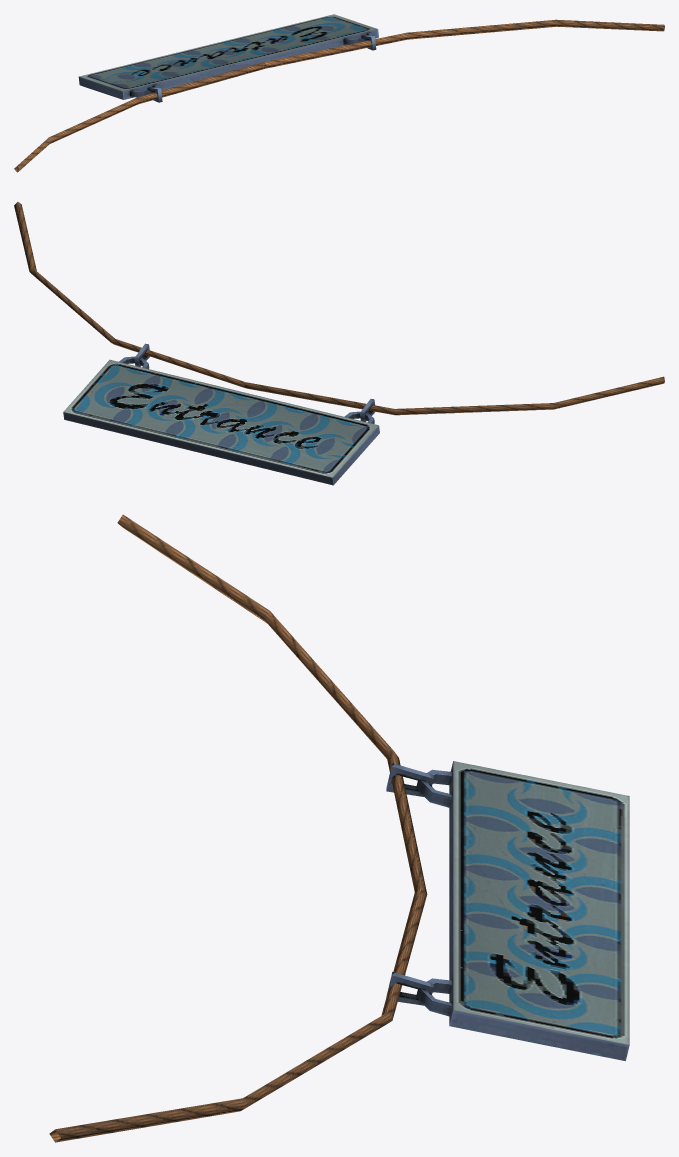
File: fxanim_mp_nuked2025_gate_sign03_mod_LOD1.obj
The picture shows the model from 3 angles, top to bottom: view 1: azimuth 30°, elevation 25°; view 2: azimuth 150°, elevation 25°; view 3: azimuth 270°, elevation 25°; orthographic projection. The views are drawn at different scales.
Visible parts, largest first — view 1: mtl_nt_2020_street_gate_01; view 2: mtl_nt_2020_street_gate_01; view 3: mtl_nt_2020_street_gate_01.
Part boxes in pixels (x1=…): mtl_nt_2020_street_gate_01: x1=14, y1=14, x2=664, y2=172; mtl_nt_2020_street_gate_01: x1=14, y1=202, x2=664, y2=485; mtl_nt_2020_street_gate_01: x1=49, y1=514, x2=629, y2=1142.
Size of the model in its own units: 125 by 10.76 by 49.52.
